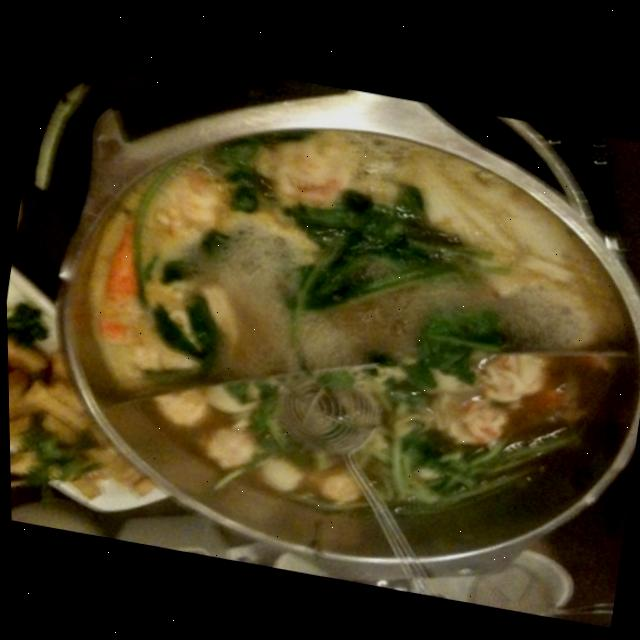汤锅炖物: (19, 36, 640, 614)
